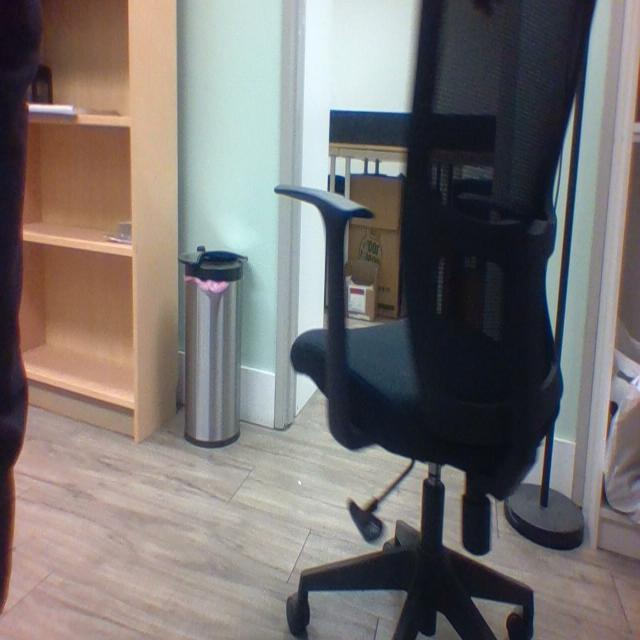chair: (265, 0, 614, 640)
